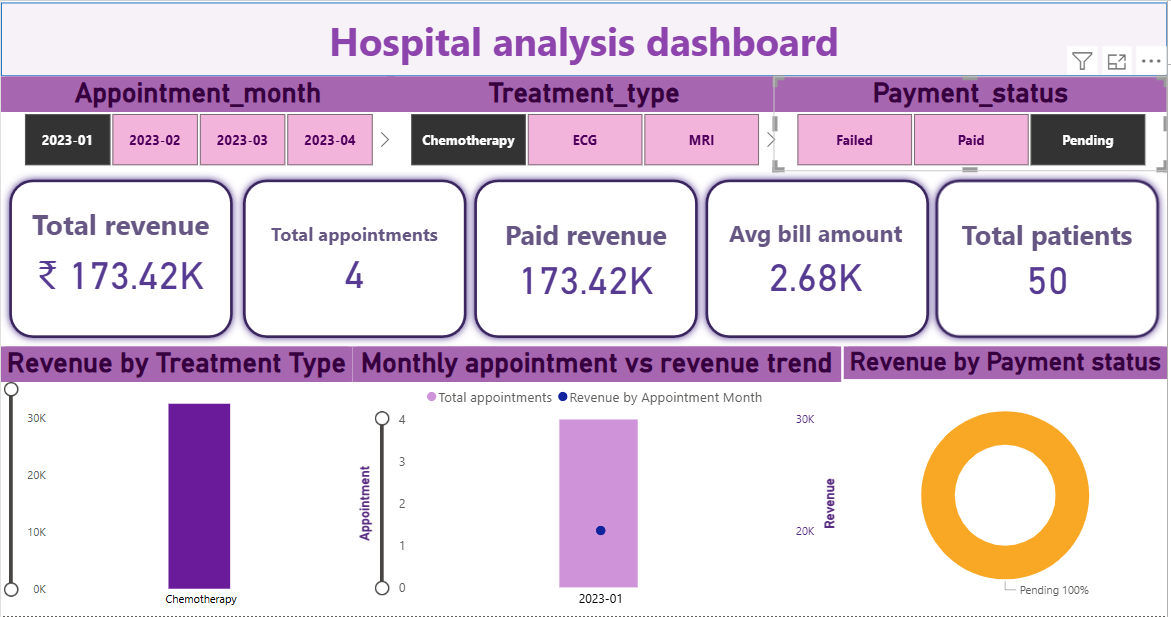

What the dashboard file says about the page in this screenshot:
{"tool":"powerbi","page":{"name":"Page 1","canvas":[1280,720],"ordinal":0},"visuals":[{"type":"shape","box":[0,231.9,263.5,192.1],"z":1,"group":"g1"},{"type":"shape","box":[0,46.7,1280.3,81],"z":2},{"type":"shape","box":[256.6,231.9,263.5,192.1],"z":7,"group":"g2"},{"type":"shape","box":[510.1,231.9,263.5,192.1],"z":8,"group":"g2"},{"type":"shape","box":[763.6,231.9,263.5,192.1],"z":9,"group":"g2"},{"type":"shape","box":[1017.2,231.9,263.5,192.1],"z":10,"group":"g2"},{"type":"cardVisual","title":"Total Revenue","fields":{"Data":["public billing.Total revenue"]},"box":[22,241.6,219.6,159.2],"z":11,"group":"g1"},{"type":"cardVisual","title":"Total Revenue","fields":{"Data":["public billing.Paid revenue"]},"box":[532.8,248.4,219.6,159.2],"z":12,"group":"g2"},{"type":"cardVisual","title":"Total Revenue","fields":{"Data":["public appointments.Total appointments"]},"box":[278.9,248.4,219.6,159.2],"z":13,"group":"g2"},{"type":"cardVisual","title":"Total Revenue","fields":{"Data":["public billing.Avg bill amount"]},"box":[785.2,248.4,219.6,159.2],"z":14,"group":"g2"},{"type":"cardVisual","title":"Total Revenue","fields":{"Data":["public patients.Total patients"]},"box":[1039.1,248.4,219.6,159.2],"z":15,"group":"g2"},{"type":"clusteredColumnChart","title":"Revenue by Treatment Type","fields":{"Category":["public treatments.treatment_type"],"Y":["public billing.Total revenue by treatment"]},"box":[0,424,385.6,296.4],"z":16},{"type":"lineClusteredColumnComboChart","title":"Monthly appointment vs revenue trend","fields":{"Y":["public appointments.Total appointments"],"Y2":["public billing.Revenue by Appointment Month"],"Category":["public appointments.appointment_month"]},"box":[385.6,424,536.5,296.4],"z":17},{"type":"donutChart","title":"Revenue by Payment status","fields":{"Category":["public billing.payment_status"],"Y":["public billing.Revenue by Payment Status"]},"box":[924.9,424,355.4,296.4],"z":18},{"type":"group","id":"g1","title":"Group 1","box":[0,231.9,263.5,192.1],"z":19},{"type":"group","id":"g2","title":"Group 2","box":[256.6,231.9,1023.7,192.1],"z":20},{"type":"slicer","title":"Appointment_month","fields":{"Values":["public appointments.appointment_month"]},"box":[0,127.6,432.2,104.3],"z":21},{"type":"slicer","title":"Treatment_type","fields":{"Values":["public treatments.treatment_type"]},"box":[424,127.6,432.2,104.3],"z":22},{"type":"slicer","title":"Payment_status","fields":{"Values":["public billing.payment_status"]},"box":[847.8,127.6,432.2,104.3],"z":23}]}

Visuals, with their boxes in screenshot pixels (x1, y1, x2, y2):
shape: (x1=6, y1=168, x2=245, y2=342)
shape: (x1=6, y1=0, x2=1167, y2=73)
shape: (x1=239, y1=168, x2=478, y2=342)
shape: (x1=469, y1=168, x2=708, y2=342)
shape: (x1=699, y1=168, x2=938, y2=342)
shape: (x1=929, y1=168, x2=1168, y2=342)
"Total Revenue" cardVisual: (x1=26, y1=176, x2=225, y2=321)
"Total Revenue" cardVisual: (x1=489, y1=183, x2=688, y2=327)
"Total Revenue" cardVisual: (x1=259, y1=183, x2=458, y2=327)
"Total Revenue" cardVisual: (x1=718, y1=183, x2=917, y2=327)
"Total Revenue" cardVisual: (x1=948, y1=183, x2=1148, y2=327)
"Revenue by Treatment Type" clusteredColumnChart: (x1=6, y1=342, x2=356, y2=611)
"Monthly appointment vs revenue trend" lineClusteredColumnComboChart: (x1=356, y1=342, x2=842, y2=611)
"Revenue by Payment status" donutChart: (x1=845, y1=342, x2=1167, y2=611)
"Group 1" group: (x1=6, y1=168, x2=245, y2=342)
"Group 2" group: (x1=239, y1=168, x2=1167, y2=342)
"Appointment_month" slicer: (x1=6, y1=73, x2=398, y2=168)
"Treatment_type" slicer: (x1=391, y1=73, x2=783, y2=168)
"Payment_status" slicer: (x1=775, y1=73, x2=1167, y2=168)
